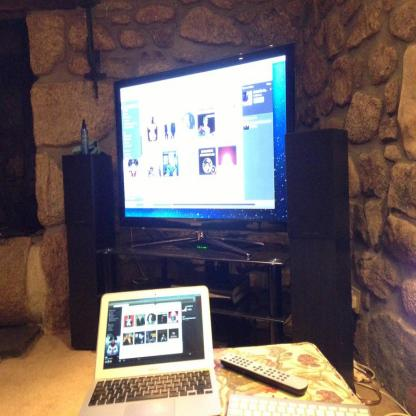board: (79, 284, 220, 416), (81, 118, 89, 154)
